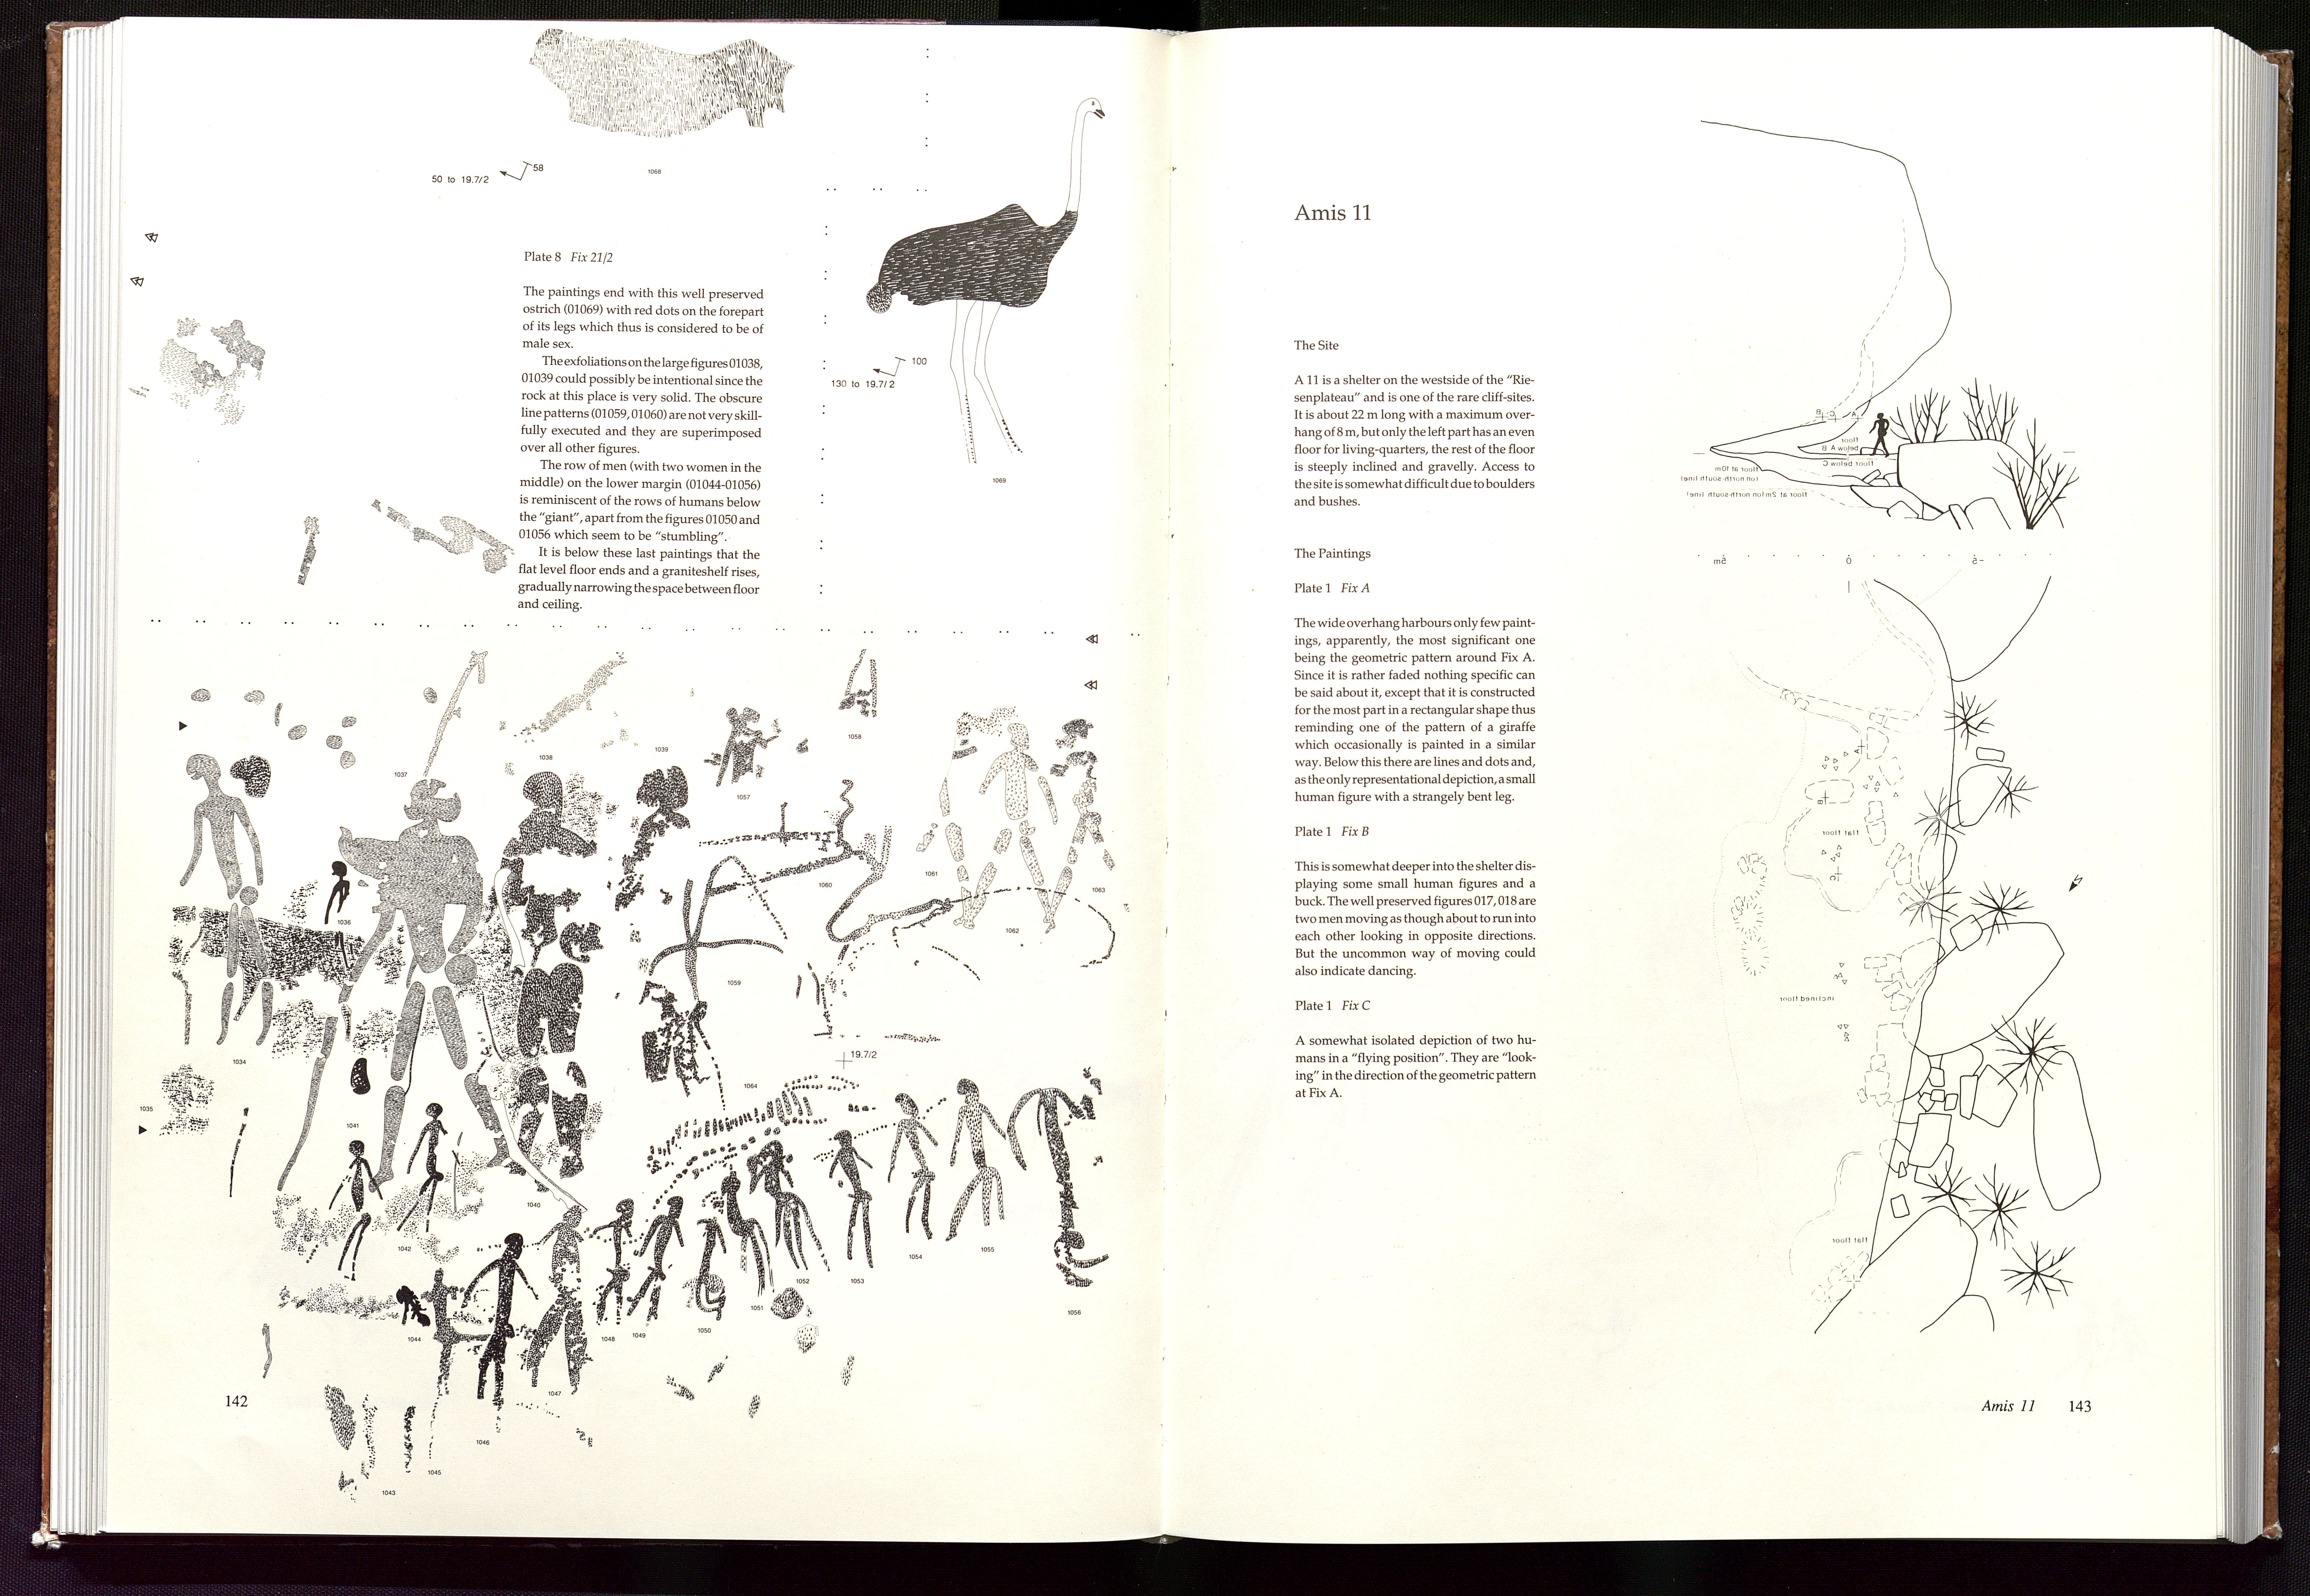animal: (859, 90, 1112, 485), (526, 25, 798, 164)
human: (334, 778, 527, 1198), (484, 766, 610, 1192), (173, 750, 278, 1050), (1006, 1076, 1117, 1295), (954, 719, 1069, 933), (1037, 710, 1139, 943), (462, 1227, 549, 1410), (521, 1202, 599, 1400), (940, 1077, 1010, 1241), (882, 1087, 943, 1242), (823, 1124, 884, 1274), (325, 1139, 381, 1288), (629, 1192, 691, 1323), (395, 1102, 451, 1244), (590, 1199, 633, 1329), (315, 859, 356, 983)
